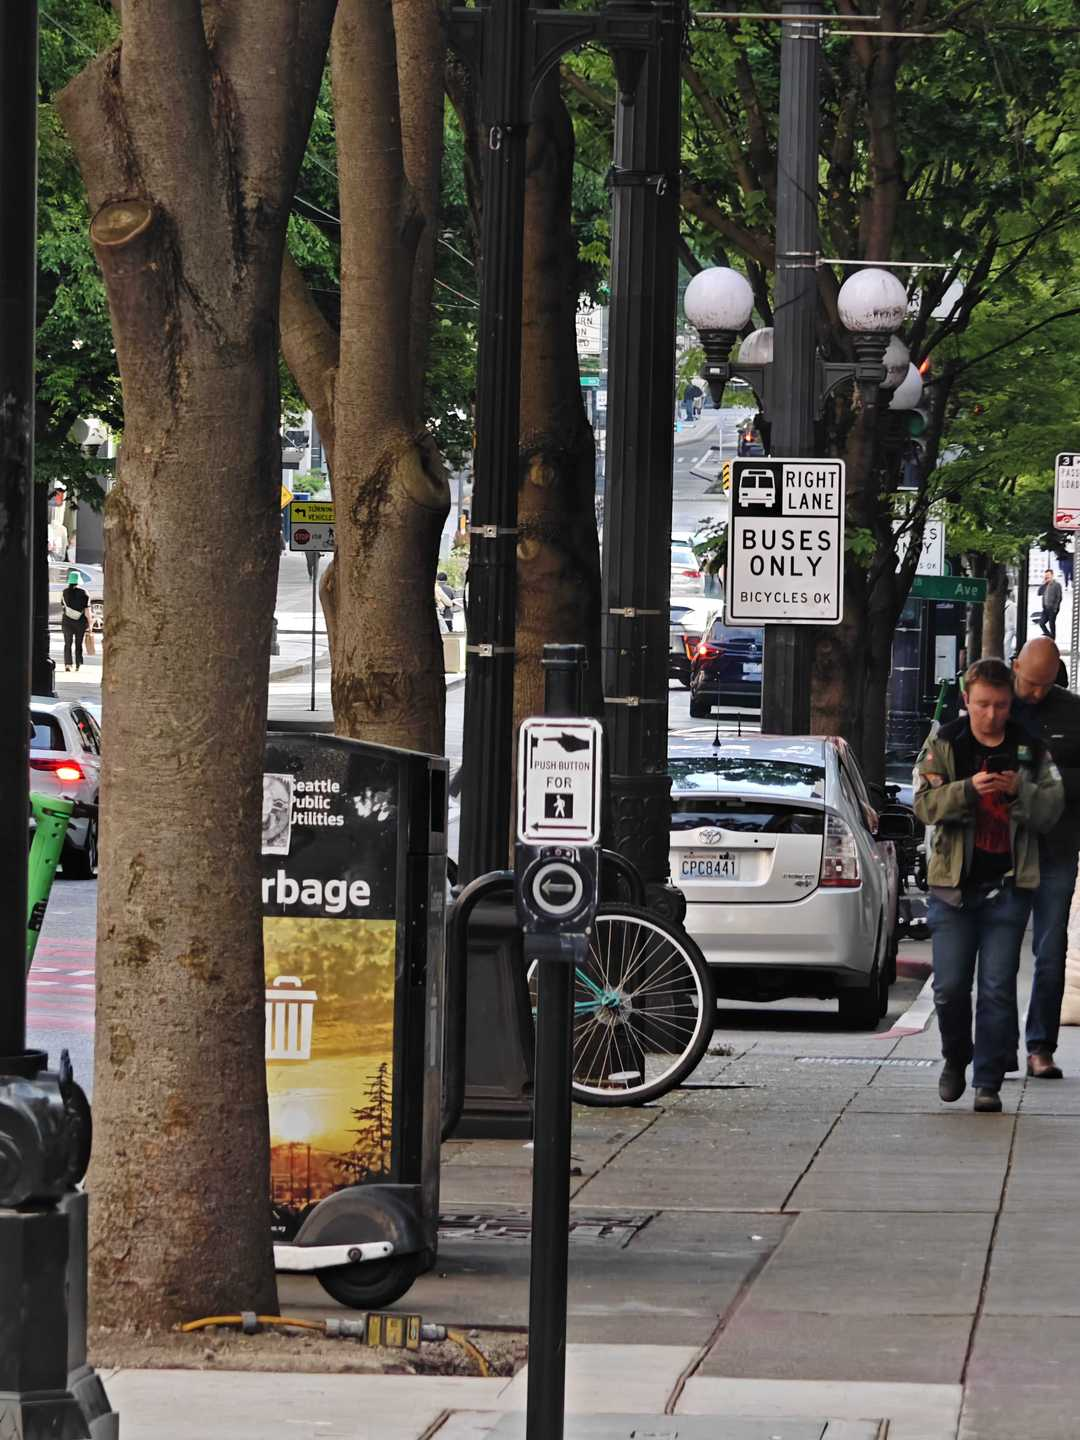ped_button: (521, 719, 600, 960)
